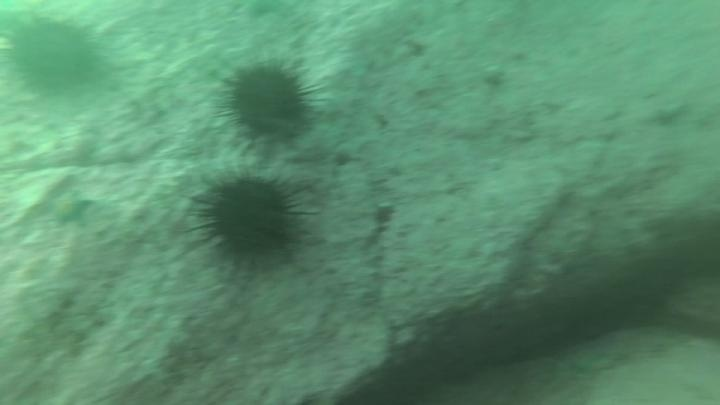echinus: (189, 167, 312, 273), (217, 56, 321, 148), (3, 13, 107, 100)
starfish: (42, 186, 95, 230)
